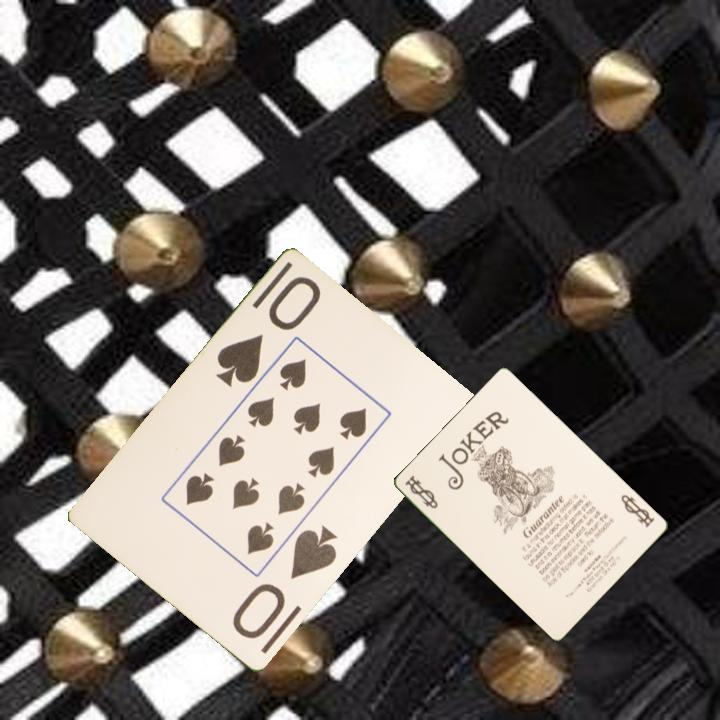10s: (228, 522, 340, 643), (212, 273, 325, 391)
JK: (401, 472, 441, 512), (618, 491, 658, 530)
